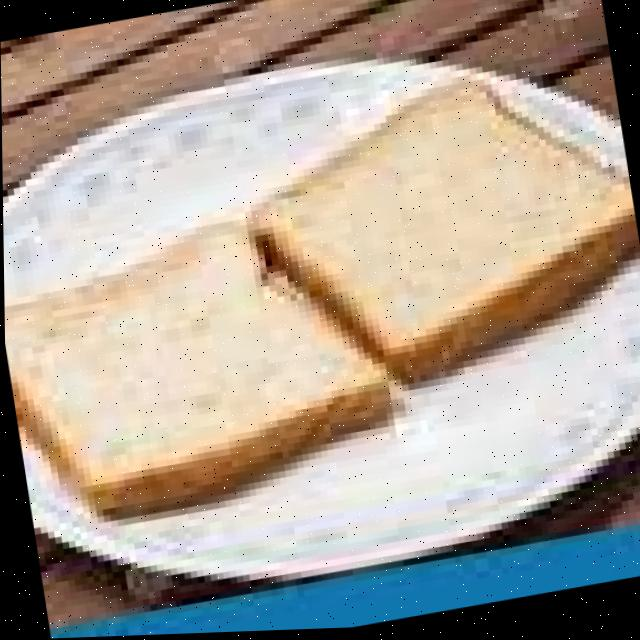Bread: (4, 214, 384, 510), (258, 84, 630, 351)
